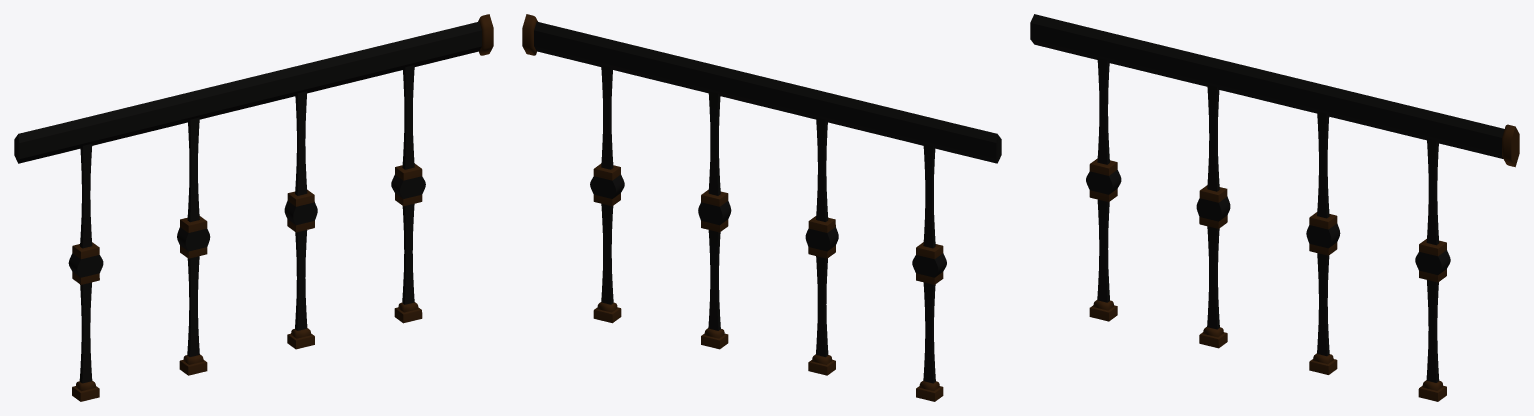
The model's file is Bannister_Right.FBX.
The picture shows the model from 3 angles, left to right: view 1: azimuth 30°, elevation 25°; view 2: azimuth 150°, elevation 25°; view 3: azimuth 330°, elevation 25°; orthographic projection. The views are drawn at different scales.
Parts seen in each view (by area): view 1: Bannister_R; view 2: Bannister_R; view 3: Bannister_R.
Boxes of the visible parts, x1,y1,x2,y2 form: Bannister_R: (14, 14, 493, 401); Bannister_R: (522, 14, 1001, 401); Bannister_R: (1030, 14, 1519, 401).
Bounding box in the file's own units: 3.23 × 1.85 × 0.1033.
